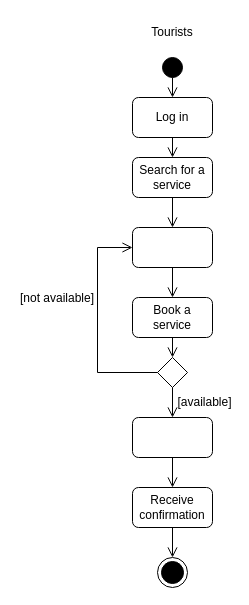
The diagram is 249 pixels wide and 605 high, and some of its shapes have lost their labels. The box of each missing label's shape, as (x1, y1, x2, y2) in pixels:
Continue to payment: (132, 416, 212, 458)
Select service: (132, 226, 212, 268)
